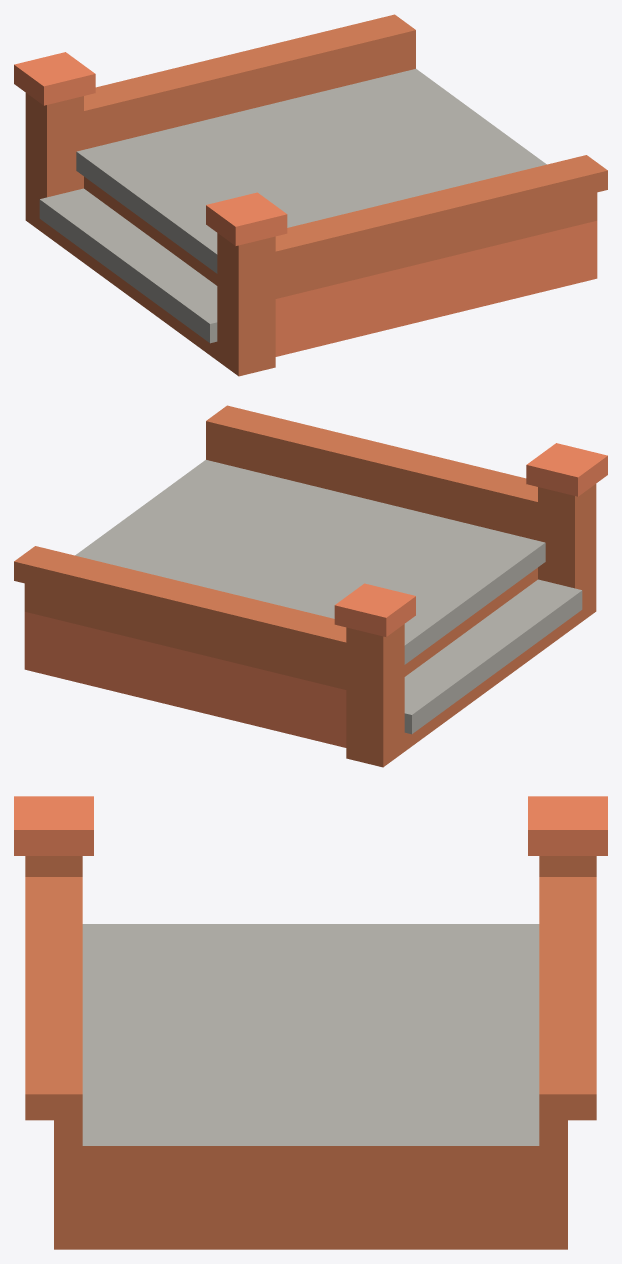
Rendered from bridge_side_wood.glb.
3 renders of one model, top to bottom at view 1: azimuth 30°, elevation 25°; view 2: azimuth 150°, elevation 25°; view 3: azimuth 270°, elevation 25°, orthographic. The views are drawn at different scales.
Parts seen in each view (by area): view 1: bridge_side_wood; view 2: bridge_side_wood; view 3: bridge_side_wood.
Boxes of the visible parts, bbox=[...] form: bridge_side_wood: bbox=[14, 14, 607, 376]; bridge_side_wood: bbox=[14, 405, 607, 767]; bridge_side_wood: bbox=[14, 796, 607, 1249].
Size of the model in its own units: 1.02 by 0.4 by 1.04.
